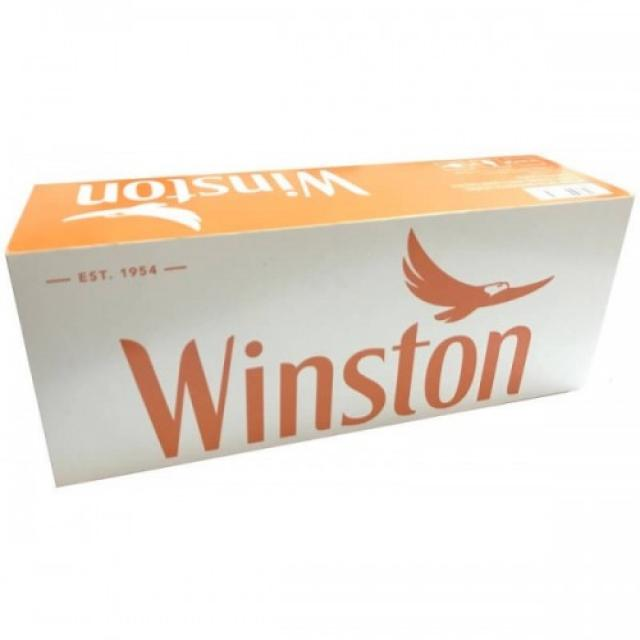winston: (7, 152, 640, 476)
